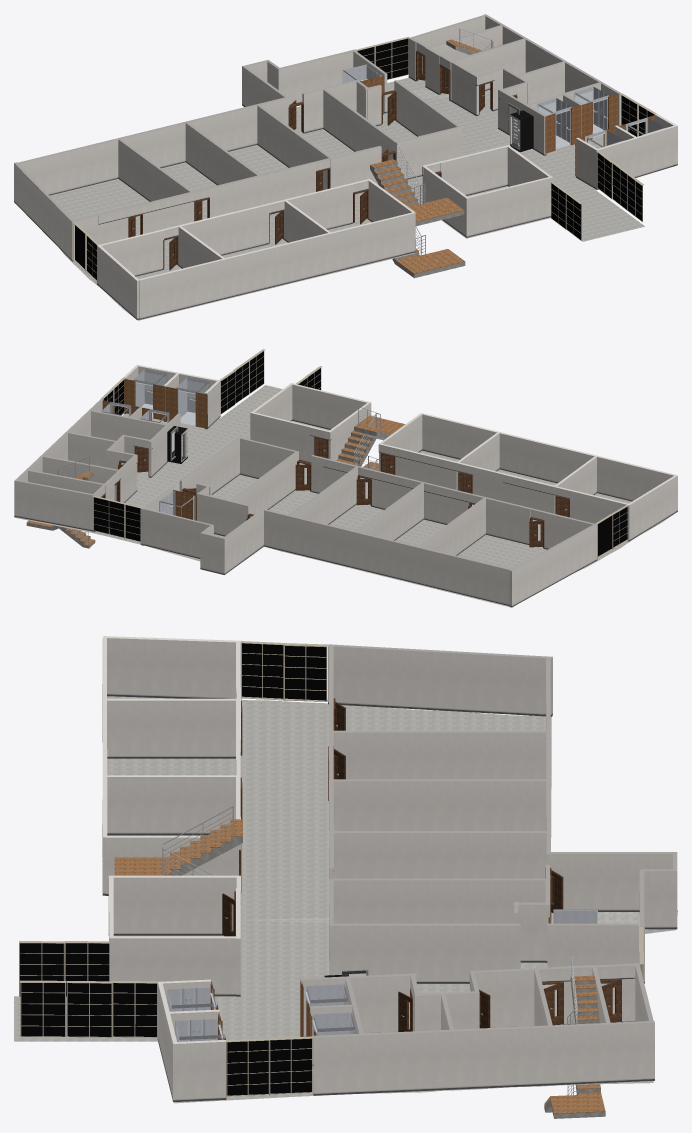
Rendered from TorreInnovacionConexion.glb.
3 views of the same model, one above another, from view 1: azimuth 30°, elevation 25°; view 2: azimuth 150°, elevation 25°; view 3: azimuth 270°, elevation 25° (orthographic). The views are drawn at different scales.
Parts seen in each view (by area): view 1: Piso, Cubo.011, Cubo.001, Cubo.012, Cubo.003, Cubo, Cubo.028, Cubo.015, Cubo.008, Cubo.053, Cubo.059, Cubo.014 (+44 smaller); view 2: Piso, Cubo.001, Cubo.011, Cubo, Cubo.017, Cubo.059, Cubo.012, Cubo.015, Cubo.008, Cubo.006, Cubo.014, Cubo.013 (+45 smaller); view 3: Piso, Cubo.016, Cubo, Cubo.014, Cubo.013, Cubo.053, Cubo.010, Cubo.015, Cubo.006, Cubo.052, Cubo.005, Cubo.007 (+33 smaller).
Boxes of the visible parts, box(x1,y1,x2,y2) form: Piso: box(15, 77, 676, 320); Cubo.011: box(139, 212, 415, 319); Cubo.001: box(15, 97, 289, 195); Cubo.012: box(467, 177, 553, 236); Cubo.003: box(180, 204, 269, 255); Cubo: box(14, 162, 74, 261); Cubo.028: box(598, 125, 675, 184); Cubo.015: box(323, 89, 398, 166); Cubo.008: box(440, 145, 509, 195); Cubo.053: box(257, 104, 331, 189); Cubo.059: box(278, 49, 356, 105); Cubo.014: box(185, 121, 259, 185); Piso: box(14, 413, 673, 607); Cubo.001: box(261, 508, 513, 605); Cubo.011: box(421, 413, 675, 501); Cubo: box(509, 523, 597, 607); Cubo.017: box(17, 480, 94, 531); Cubo.059: box(140, 507, 212, 558); Cubo.012: box(291, 383, 369, 429); Cubo.015: box(229, 451, 298, 517); Cubo.008: box(250, 412, 315, 462); Cubo.006: box(627, 475, 677, 541); Cubo.014: box(355, 483, 423, 540); Cubo.013: box(418, 498, 485, 555); Piso: box(66, 696, 677, 1103); Cubo.016: box(313, 1021, 654, 1095); Cubo: box(328, 644, 552, 716); Cubo.014: box(333, 779, 548, 830); Cubo.013: box(333, 730, 546, 779); Cubo.053: box(333, 831, 548, 878); Cubo.010: box(329, 923, 520, 983); Cubo.015: box(329, 878, 545, 923); Cubo.006: box(103, 636, 241, 699); Cubo.052: box(107, 698, 236, 758); Cubo.005: box(105, 775, 236, 835); Cubo.007: box(108, 875, 236, 935).
Bounding box in the file's own units: 95.87 × 20.54 × 65.94.
Materials: 47 (8 with a texture image).
